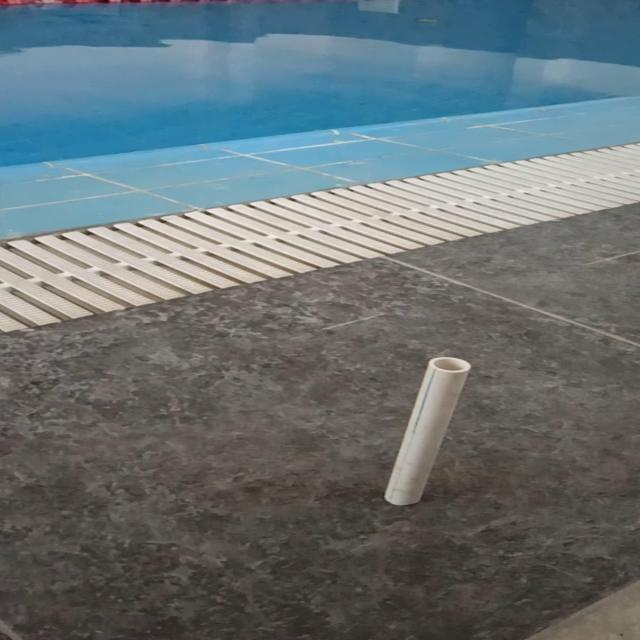Cube: (382, 356, 471, 506)
